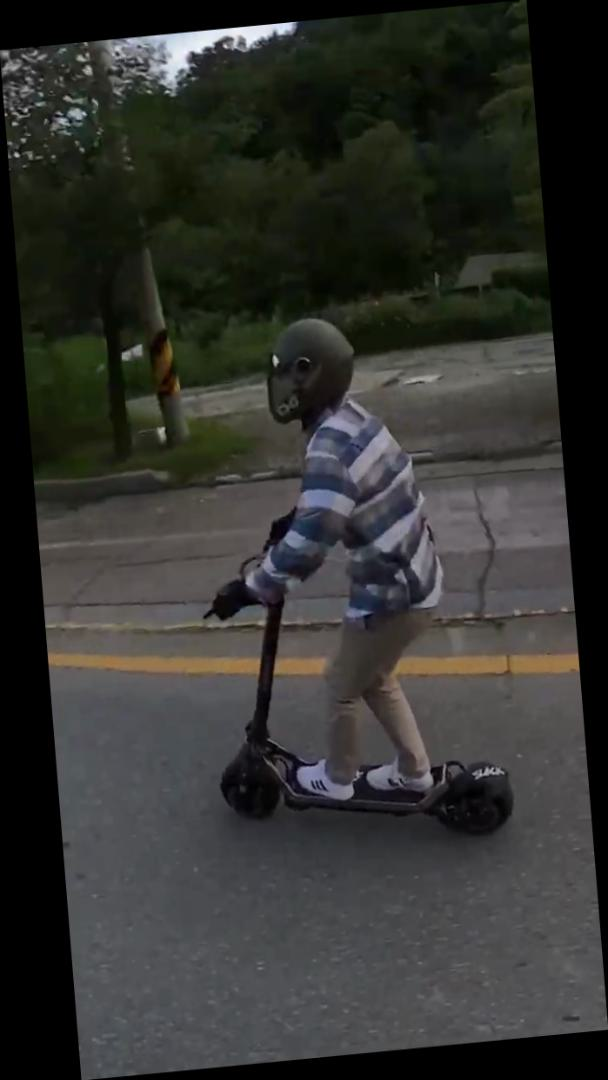helmet: (176, 297, 521, 863)
